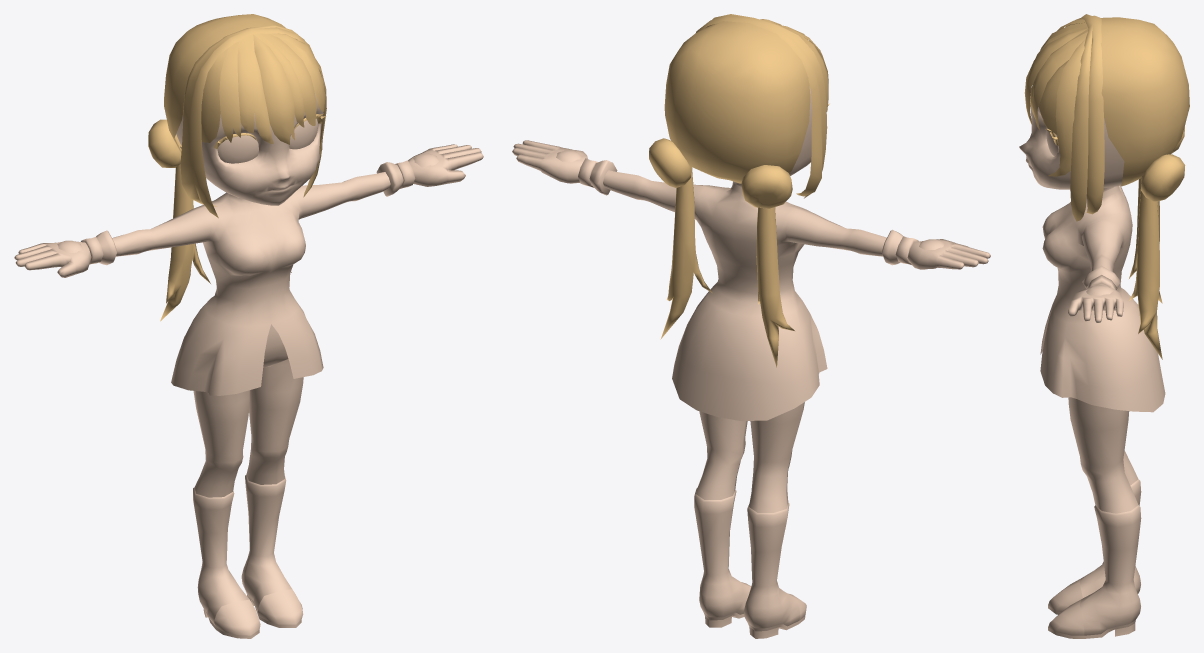
The model's file is Test_CMx5.FBX.
3 renders of one model, left to right at view 1: azimuth 30°, elevation 25°; view 2: azimuth 150°, elevation 25°; view 3: azimuth 270°, elevation 25°, orthographic.
Visible parts, largest first — view 1: Enid_Body, Enid_Hair; view 2: Enid_Body, Enid_Hair; view 3: Enid_Body, Enid_Hair.
Boxes of the visible parts, box(x1,y1,x2,y2) form: Enid_Body: box(14, 92, 483, 638); Enid_Hair: box(148, 14, 326, 321); Enid_Body: box(512, 86, 990, 638); Enid_Hair: box(649, 14, 829, 367); Enid_Body: box(1019, 83, 1165, 638); Enid_Hair: box(1024, 14, 1189, 359).
Bounding box in the file's own units: 110 × 134 × 34.78.
